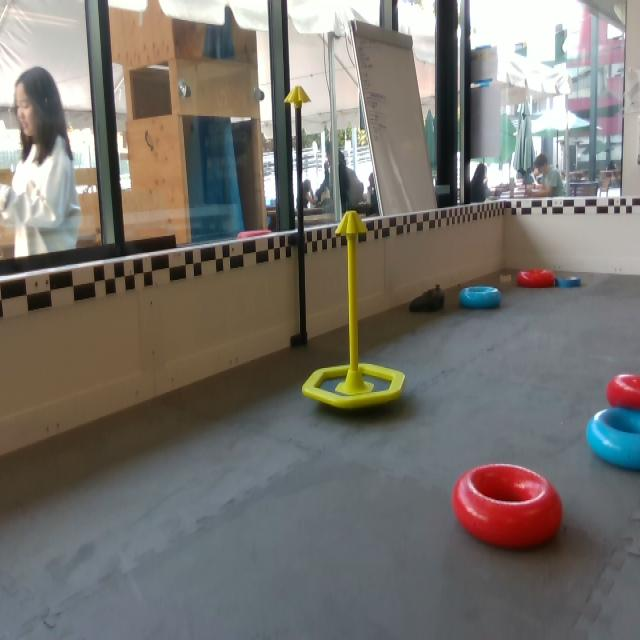Blue-Ring: (585, 408, 639, 472), (458, 285, 503, 311), (553, 275, 581, 290)
Mobile-Goal: (301, 213, 407, 412)
Red-Ring: (451, 463, 564, 552), (605, 375, 639, 407), (517, 269, 560, 288)
Yellow-Stake-Head: (336, 210, 368, 236), (284, 86, 312, 104)
